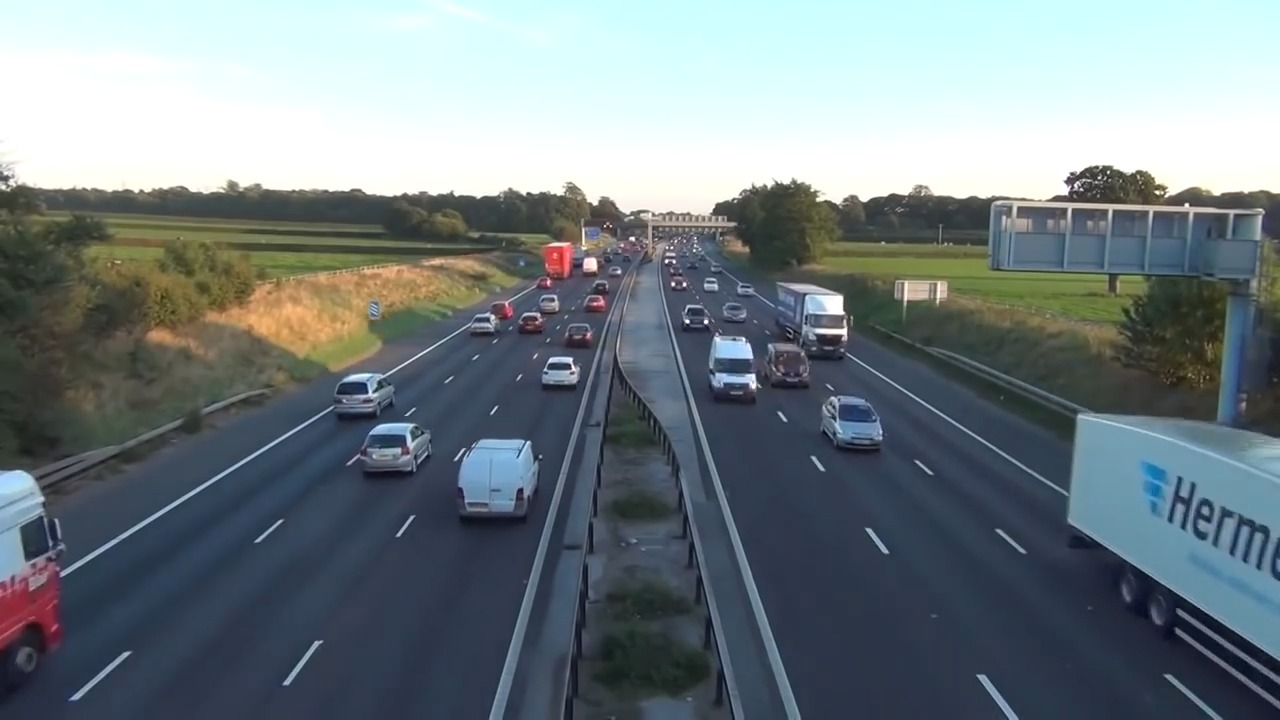truck: (779, 274, 851, 359)
